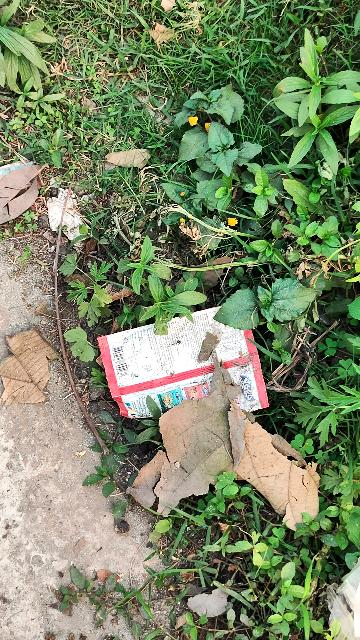packet: (94, 295, 266, 444)
